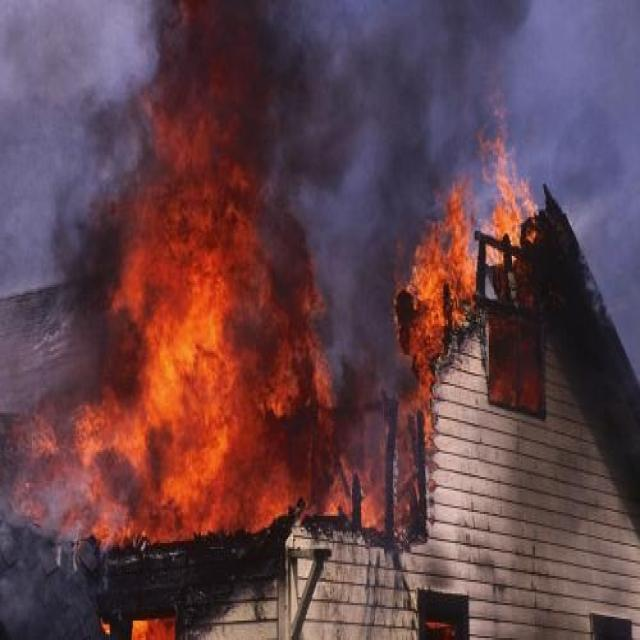Fire: (13, 91, 539, 539), (131, 618, 175, 640)
Smoke: (1, 2, 532, 415), (1, 446, 142, 640)
